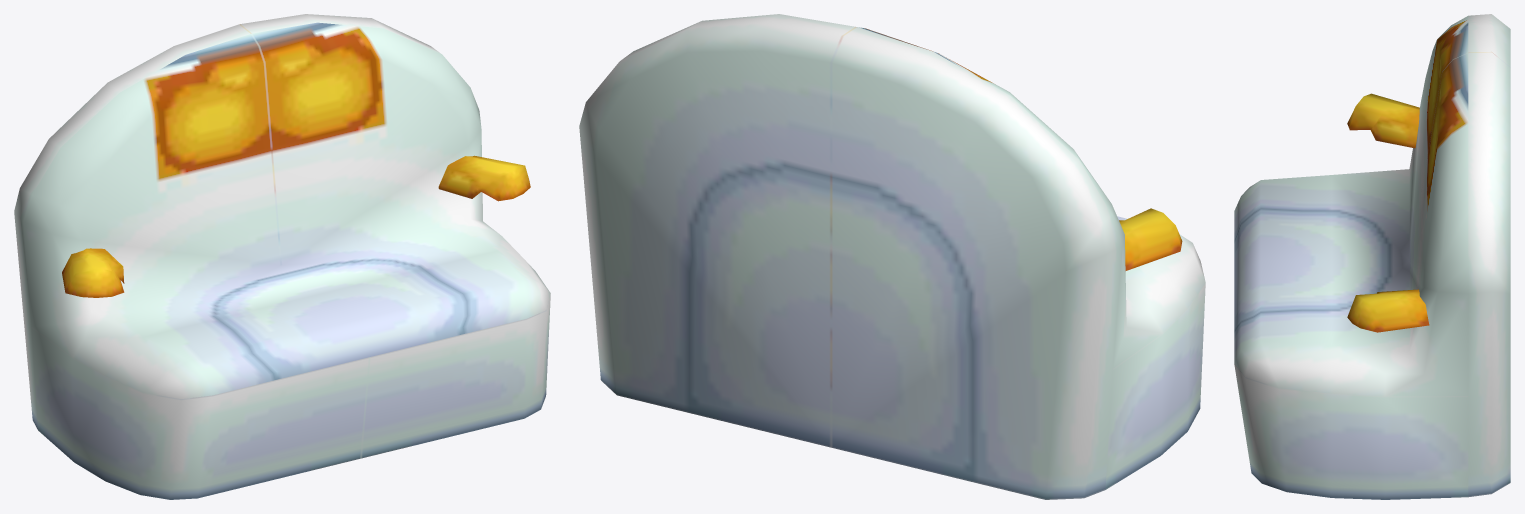
Rendered from int_snw_chairL.dae.
3 renders of one model, left to right at view 1: azimuth 30°, elevation 25°; view 2: azimuth 150°, elevation 25°; view 3: azimuth 270°, elevation 25°, orthographic. The views are drawn at different scales.
Visible parts, largest first — view 1: int_snw_chairL; view 2: int_snw_chairL; view 3: int_snw_chairL.
Part boxes in pixels (x1,y1,x2,y2): int_snw_chairL: [14, 14, 550, 499]; int_snw_chairL: [579, 14, 1205, 499]; int_snw_chairL: [1234, 14, 1510, 499].
Size of the model in its own units: 57.6 by 41 by 30.04.
Materials: 1 (1 with a texture image).
